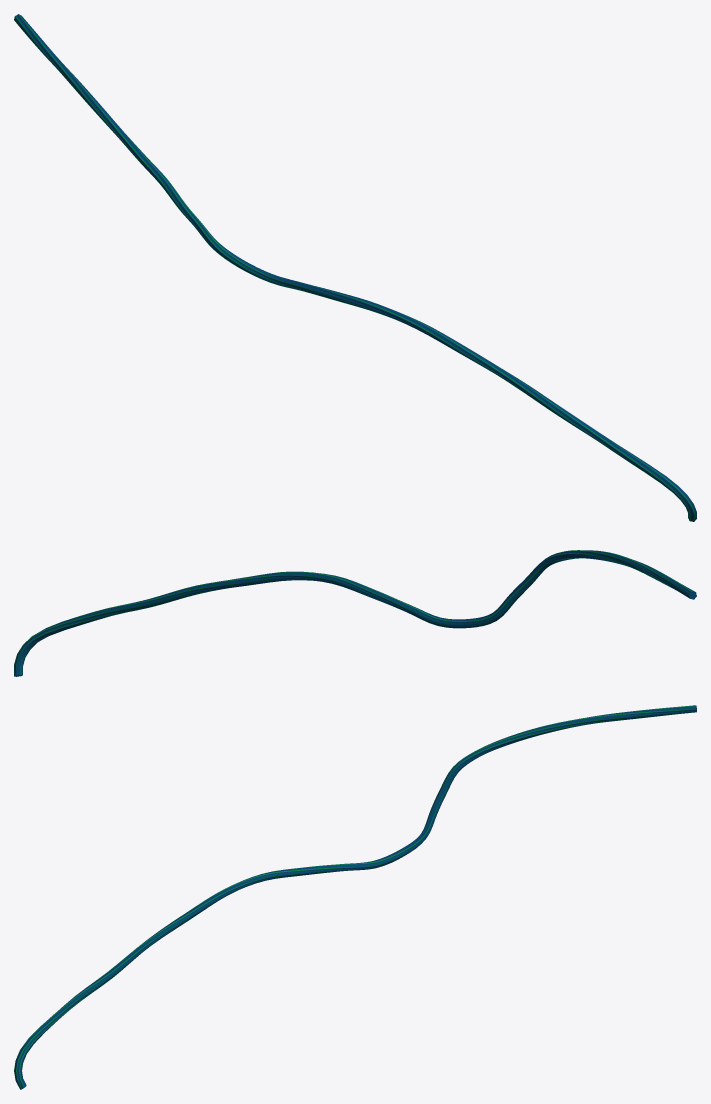
Rendered from cables 12.FBX.
The picture shows the model from 3 angles, top to bottom: view 1: azimuth 30°, elevation 25°; view 2: azimuth 210°, elevation 25°; view 3: azimuth 270°, elevation 25°; orthographic projection. The views are drawn at different scales.
Parts seen in each view (by area): view 1: Loft018; view 2: Loft018; view 3: Loft018.
Part boxes in pixels (x1,y1,x2,y2): Loft018: (14, 14, 696, 521); Loft018: (14, 550, 696, 676); Loft018: (14, 705, 696, 1089).
Size of the model in its own units: 667 by 623 by 1481.
